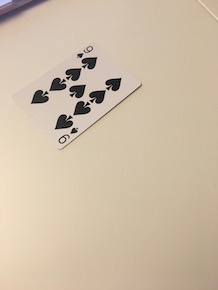NineOfSpades: (8, 41, 144, 155)
